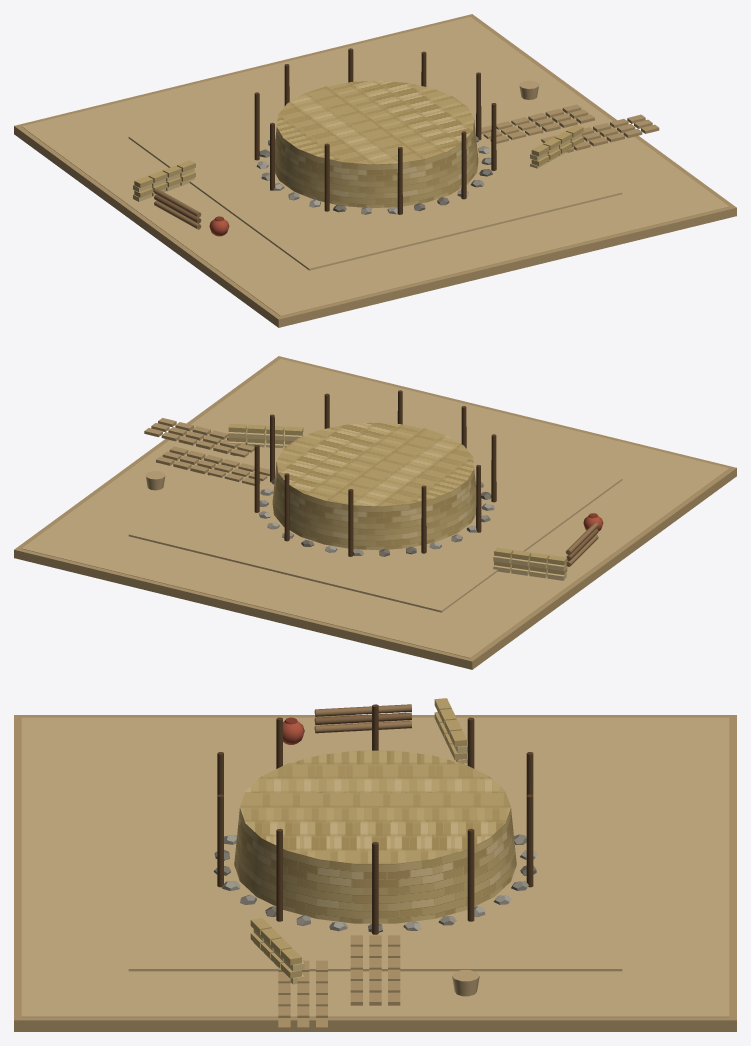
The model's file is rad-4-construction.glb.
3 renders of one model, top to bottom at view 1: azimuth 30°, elevation 25°; view 2: azimuth 150°, elevation 25°; view 3: azimuth 270°, elevation 25°, orthographic. The views are drawn at different scales.
Size of the model in its own units: 25.01 by 3.83 by 24.
14 materials, 2 textured.
